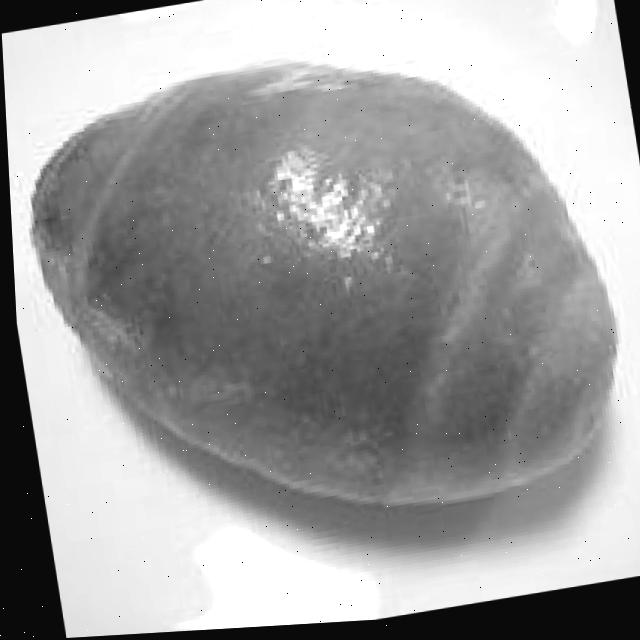面包点心: (2, 9, 640, 584)
